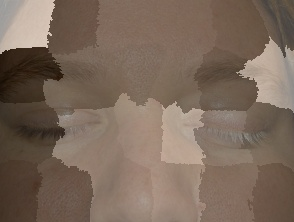vitiligo: (168, 106, 286, 169)
